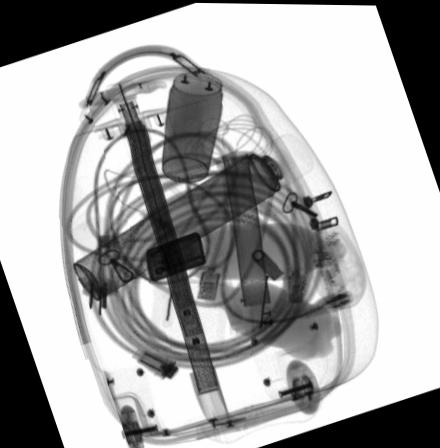Lighter: (143, 231, 204, 282)
Sprayer: (72, 130, 313, 301)
